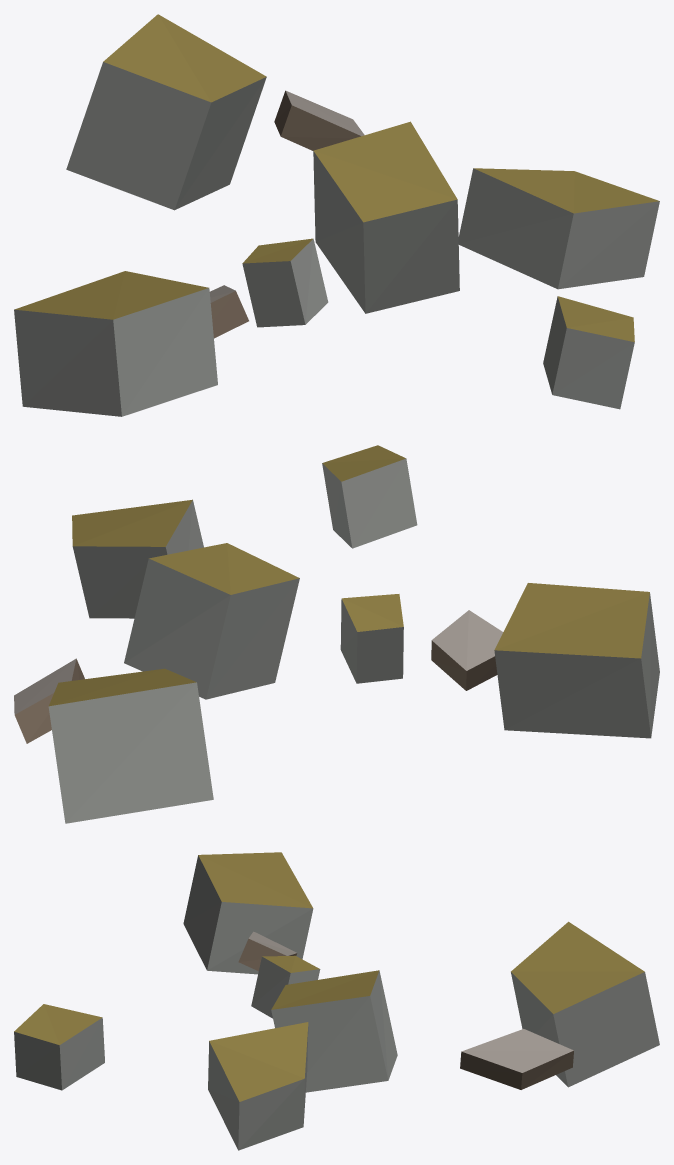
File: rock.rubble__buried__spring.glb
3 renders of one model, top to bottom at view 1: azimuth 30°, elevation 25°; view 2: azimuth 150°, elevation 25°; view 3: azimuth 270°, elevation 25°, orthographic. The views are drawn at different scales.
Visible parts, largest first — view 1: rock.rubble; view 2: rock.rubble; view 3: rock.rubble.
Part boxes in pixels (x1,y1,x2,y2): rock.rubble: (14, 14, 659, 416); rock.rubble: (14, 445, 659, 823); rock.rubble: (14, 852, 659, 1150).
Bounding box in the file's own units: 2.33 × 0.5518 × 2.73.
